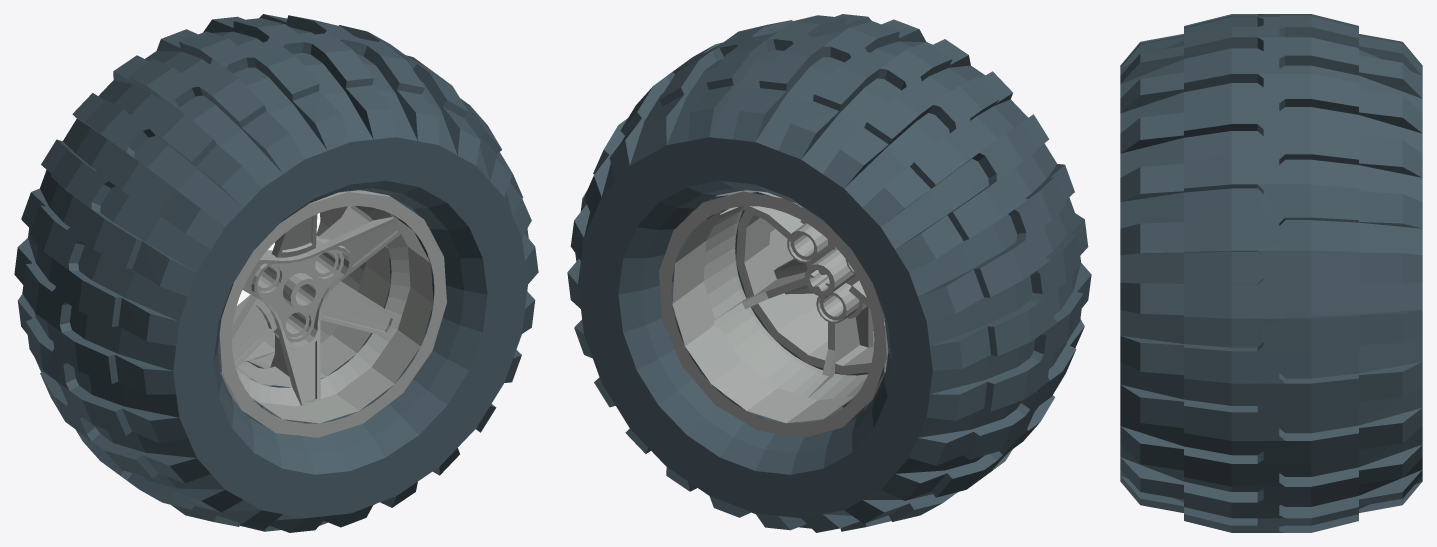
The picture shows the model from 3 angles, left to right: view 1: azimuth 30°, elevation 25°; view 2: azimuth 150°, elevation 25°; view 3: azimuth 270°, elevation 25°; orthographic projection.
Parts seen in each view (by area): view 1: world; view 2: world; view 3: world.
Boxes of the visible parts, x1,y1,x2,y2 form: world: [14, 14, 538, 532]; world: [567, 14, 1091, 532]; world: [1120, 14, 1422, 532].
Size of the model in its own units: 0.1048 by 0.1048 by 0.0608.
